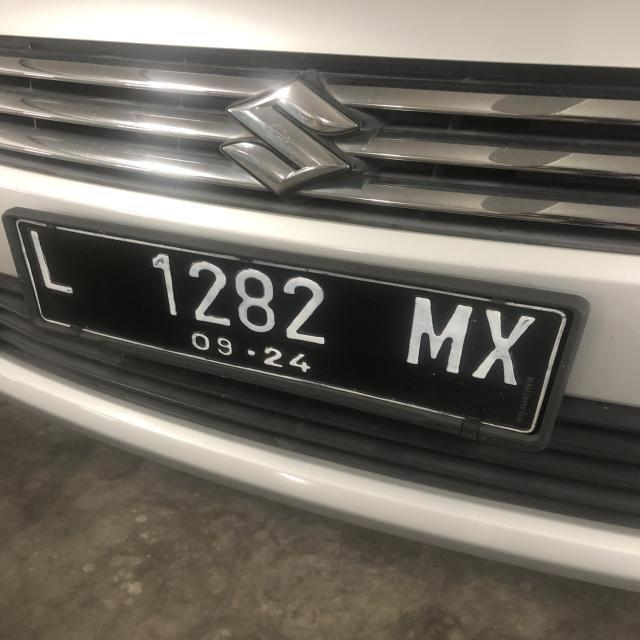1: (146, 250, 182, 322)
2: (280, 272, 328, 349), (185, 257, 232, 332)
8: (233, 268, 279, 336)
L: (27, 230, 81, 298)
M: (406, 292, 474, 382)
X: (473, 306, 529, 396)
